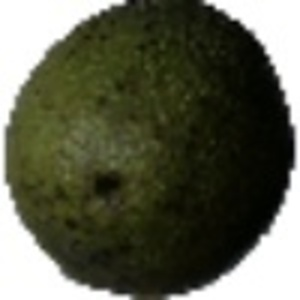abacate: (4, 2, 292, 295)
